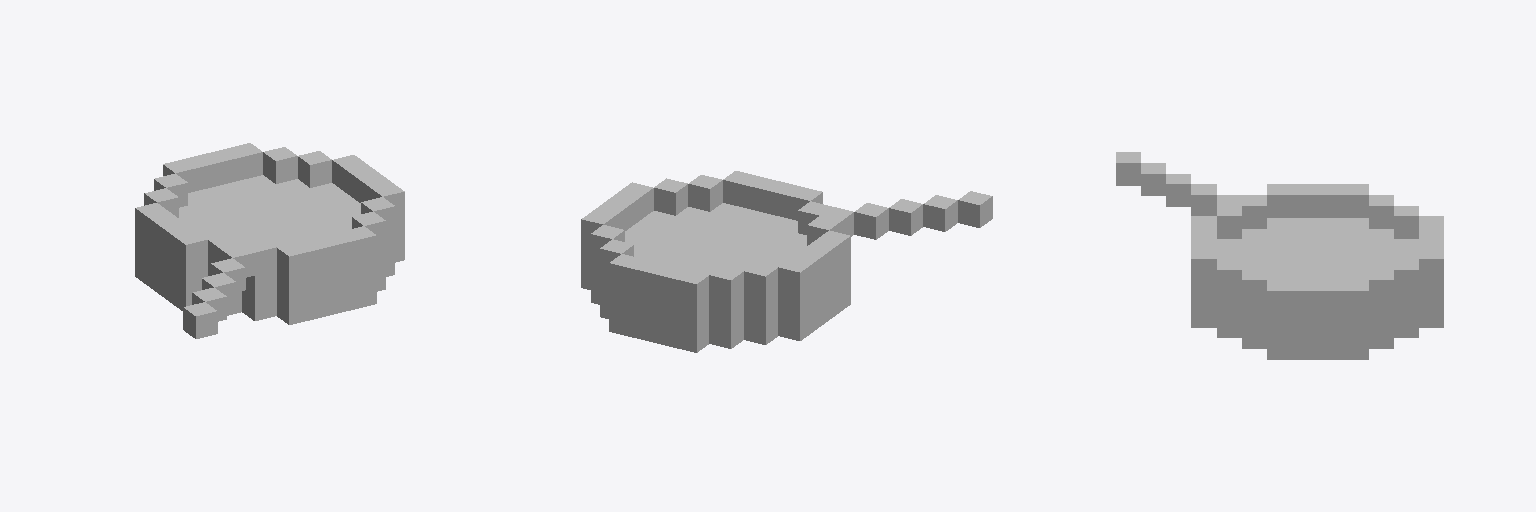
The model's file is cooking_skillet_fill.obj.
The picture shows the model from 3 angles: view 1: azimuth 30°, elevation 25°; view 2: azimuth 150°, elevation 25°; view 3: azimuth 270°, elevation 25°; orthographic projection.
Parts seen in each view (by area): view 1: node_0_0_0.001, node_0_0_0.003; view 2: node_0_0_0.001, node_0_0_0.003; view 3: node_0_0_0.001, node_0_0_0.003.
Part boxes in pixels (left/top/right/bottom): node_0_0_0.001: left=135, top=143, right=404, bottom=338; node_0_0_0.003: left=179, top=175, right=360, bottom=246; node_0_0_0.001: left=581, top=171, right=992, bottom=352; node_0_0_0.003: left=625, top=203, right=806, bottom=274; node_0_0_0.001: left=1116, top=152, right=1443, bottom=359; node_0_0_0.003: left=1217, top=218, right=1418, bottom=279.
Bounding box in the file's own units: 0.8125 × 0.1875 × 0.8125.